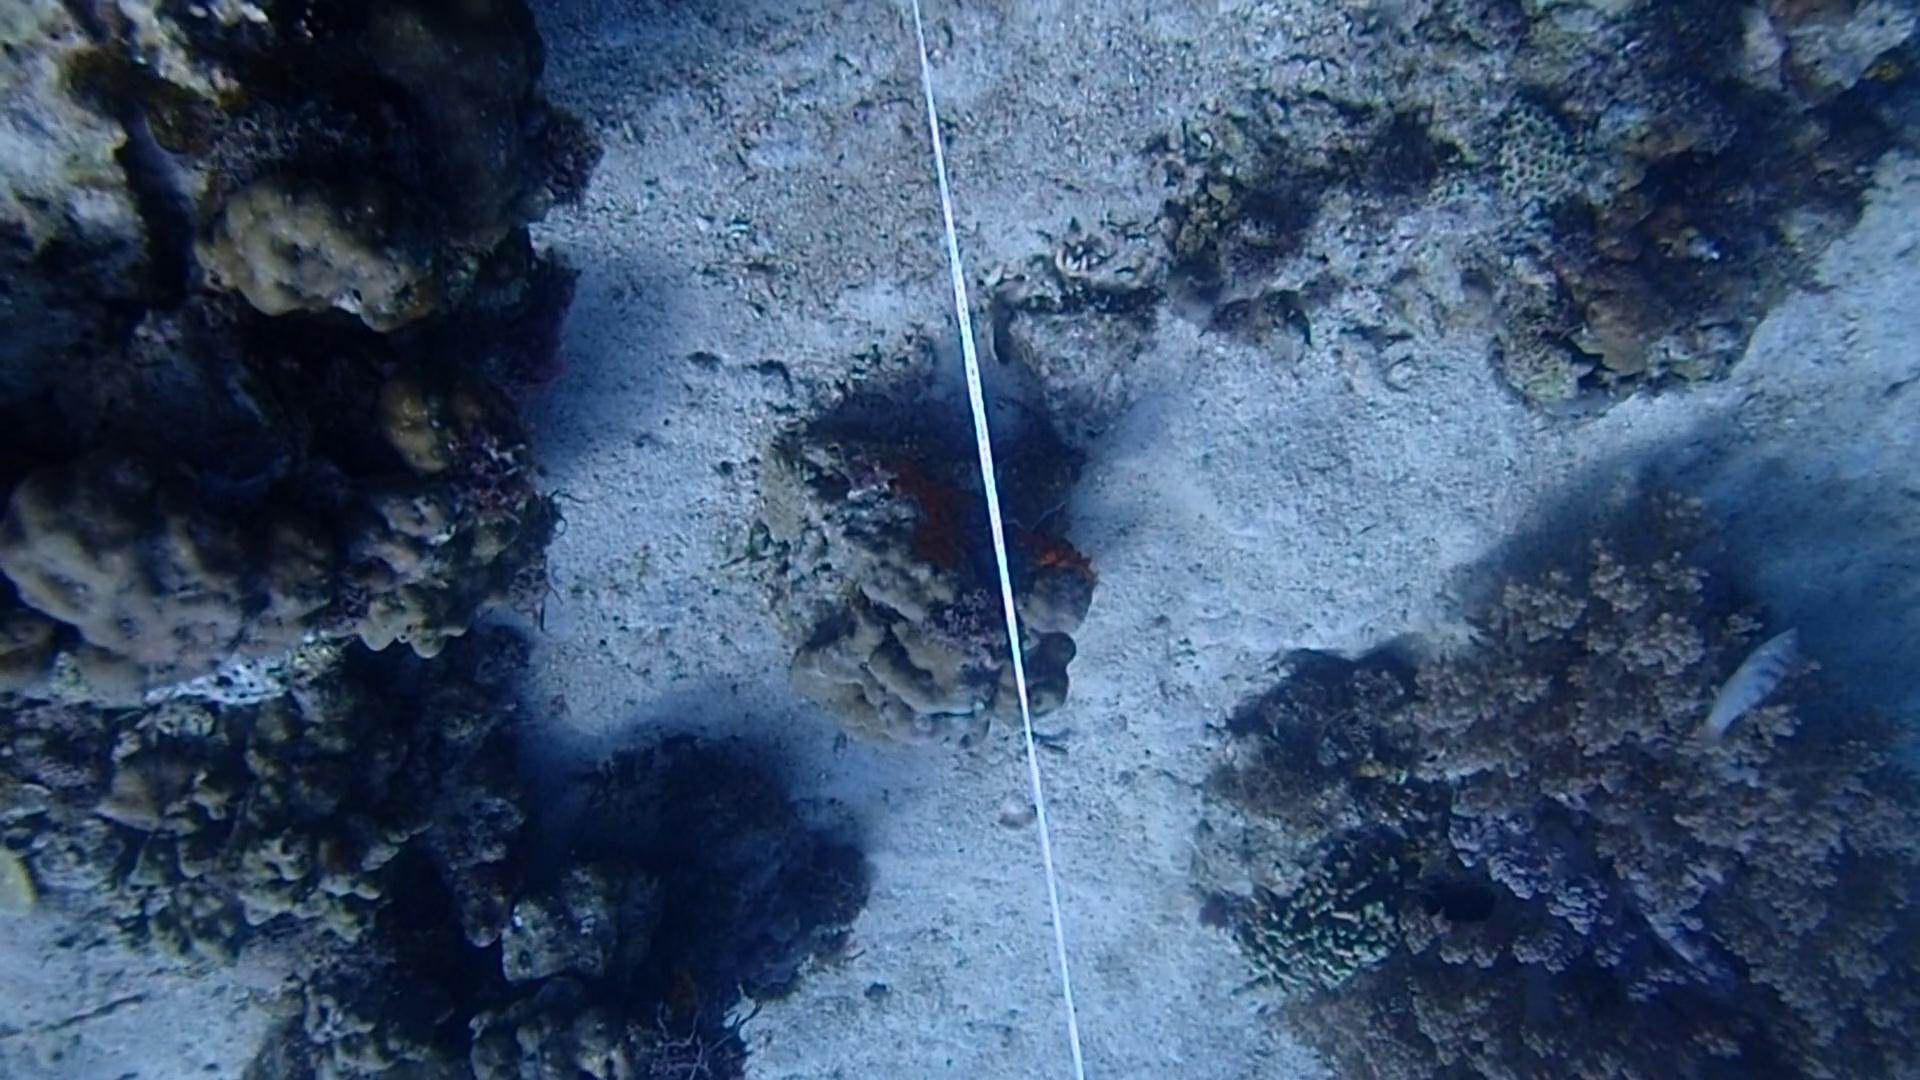Dark Fish: (1394, 869, 1501, 934)
Light Fish w Back Stripes: (1691, 625, 1815, 757)
